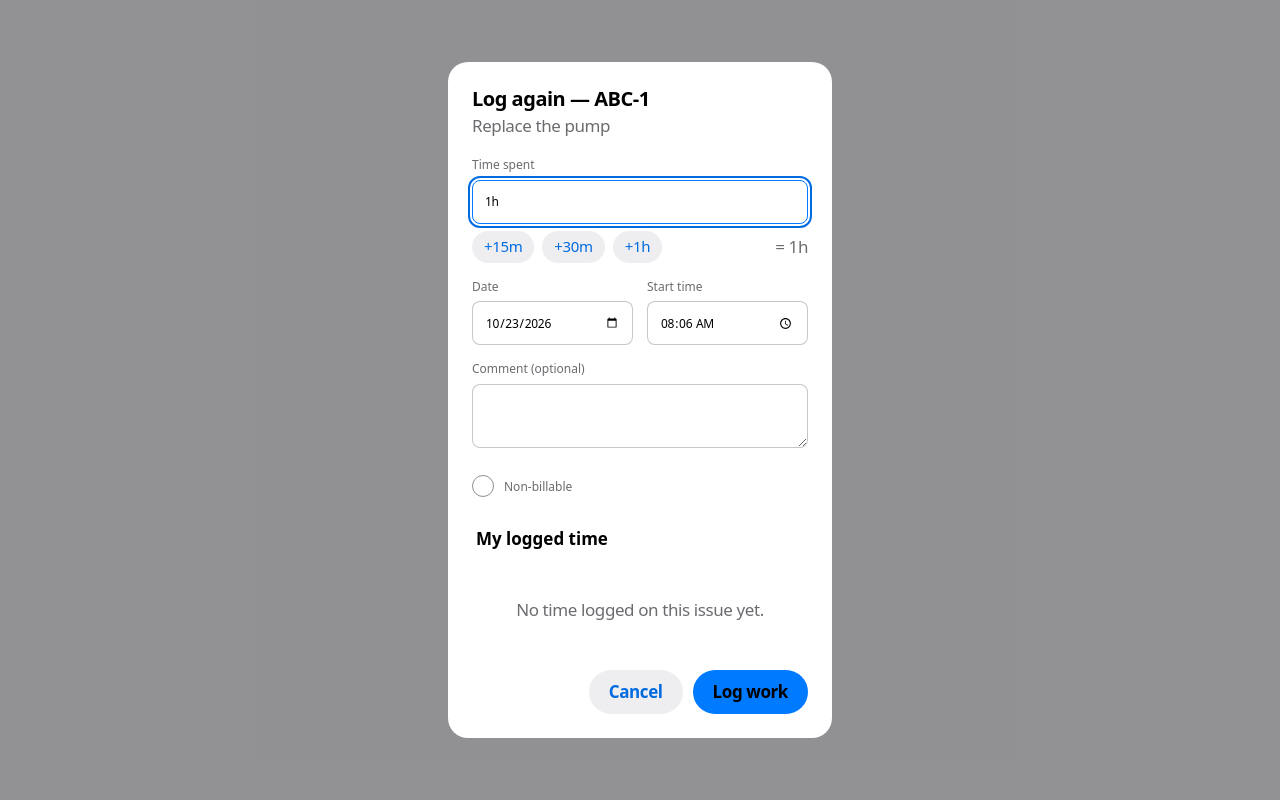
logging › keeps the form open and says why when Jira refuses
The width and height of the screenshot is (1280, 800).
Click the button "Log work" at (750, 692), box x1=693 y1=670 x2=808 y2=714
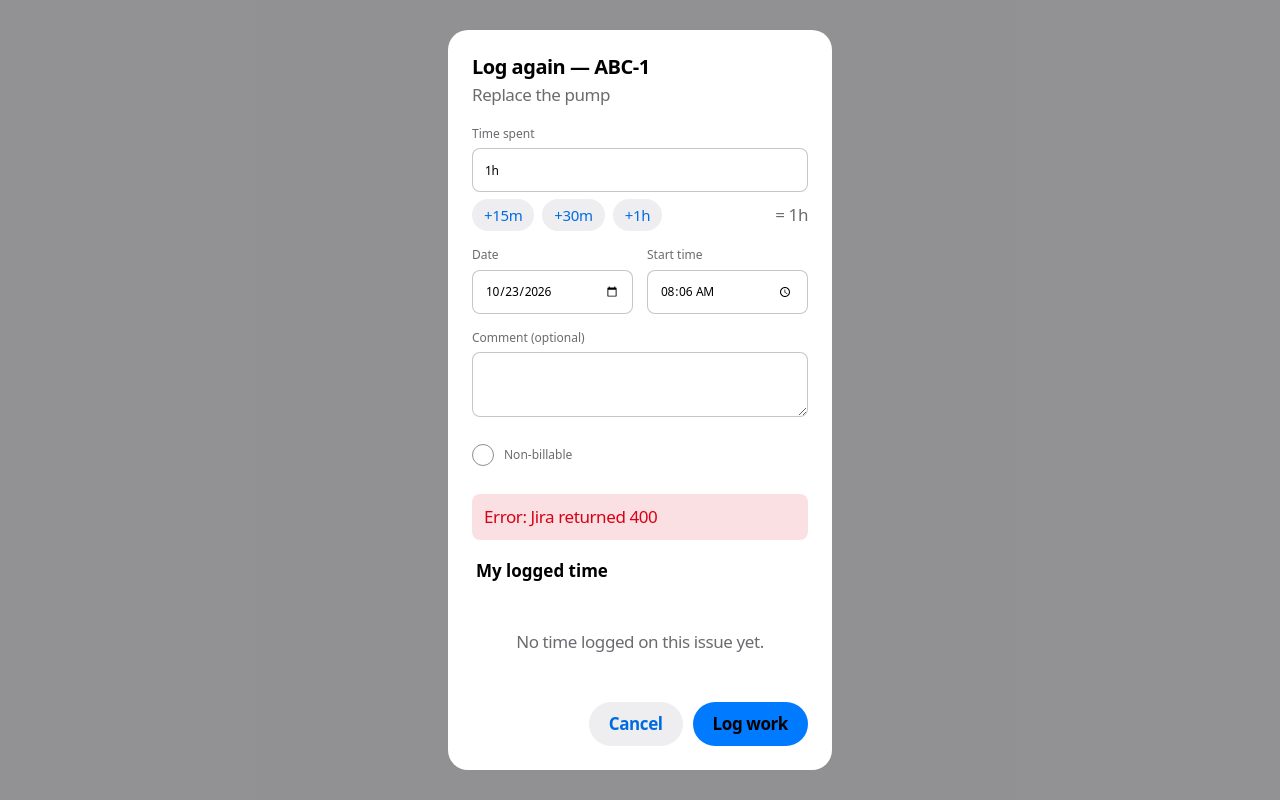
Check: the button "Log work" is enabled, box x1=693 y1=702 x2=808 y2=746
Check: the text "Error: Jira returned 400" is shown, box x1=472 y1=494 x2=808 y2=540
